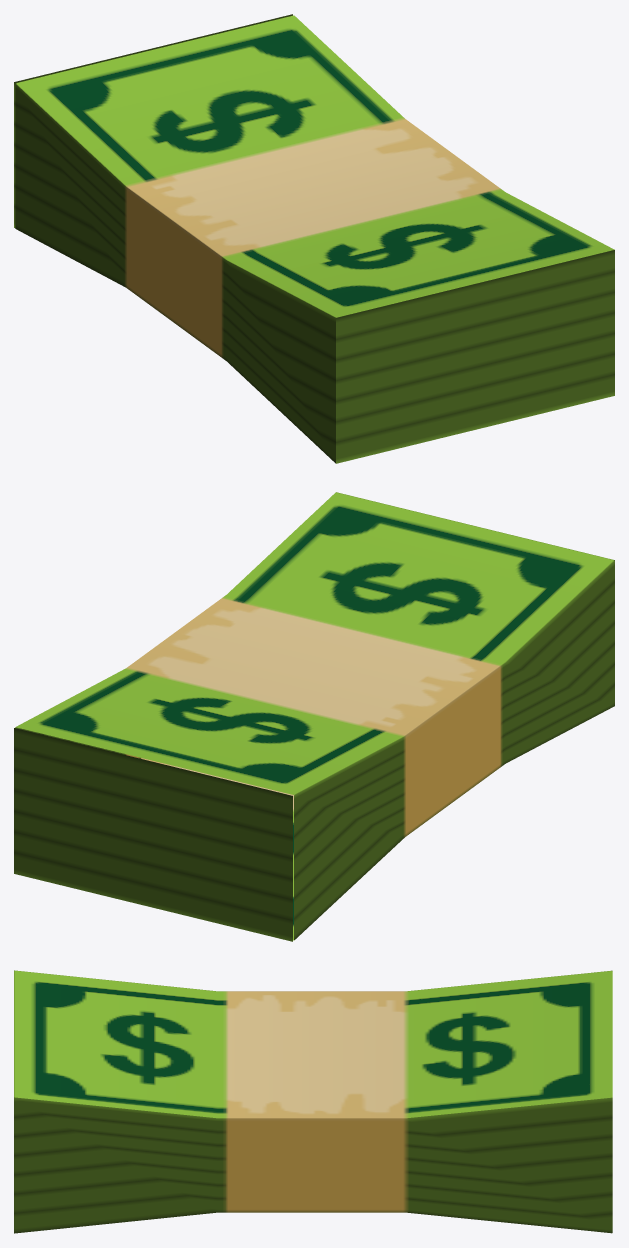
Rendered from Cash.FBX.
3 renders of one model, top to bottom at view 1: azimuth 30°, elevation 25°; view 2: azimuth 150°, elevation 25°; view 3: azimuth 270°, elevation 25°, orthographic. The views are drawn at different scales.
Visible parts, largest first — view 1: Cash; view 2: Cash; view 3: Cash.
Boxes of the visible parts, <box> form: Cash: <box>14,14,614,463</box>; Cash: <box>14,492,614,941</box>; Cash: <box>14,970,612,1233</box>.
Size of the model in its own units: 50.71 by 25.36 by 101.
Materials: 1 (1 with a texture image).
